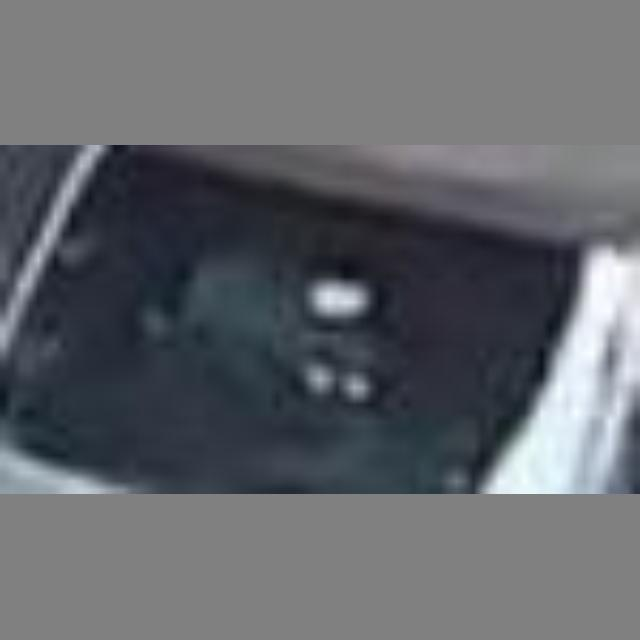tidak-pakai: (145, 213, 384, 401)
